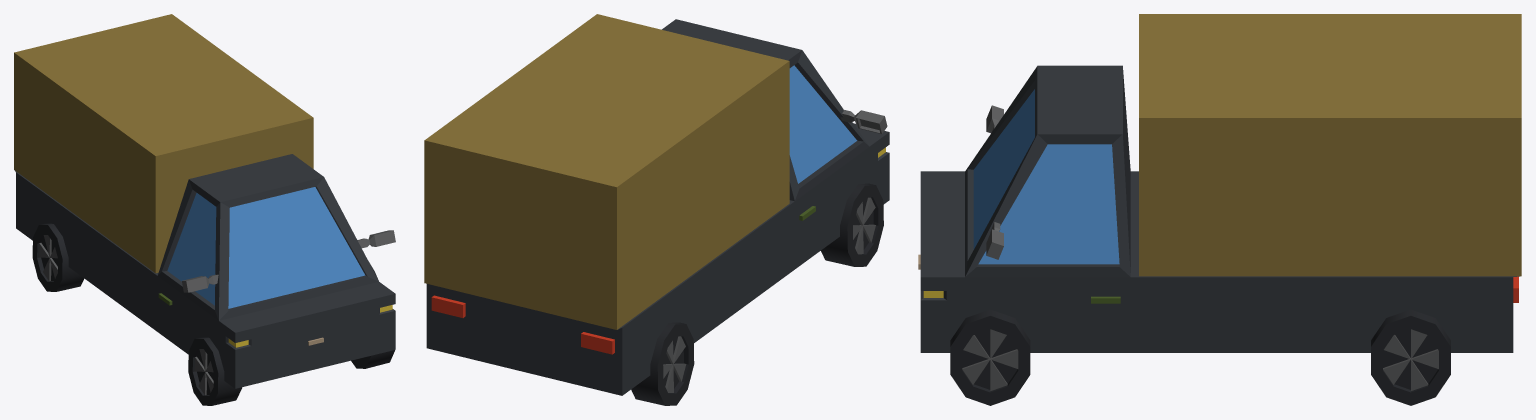
Rendered from Truck_1.fbx.
The picture shows the model from 3 angles, left to right: view 1: azimuth 30°, elevation 25°; view 2: azimuth 150°, elevation 25°; view 3: azimuth 270°, elevation 25°; orthographic projection. The views are drawn at different scales.
Visible parts, largest first — view 1: Truck_1; view 2: Truck_1; view 3: Truck_1.
Part boxes in pixels (x1,y1,x2,y2): Truck_1: (14, 14, 395, 405); Truck_1: (424, 14, 889, 405); Truck_1: (918, 14, 1521, 405).
Bounding box in the file's own units: 311 × 297 × 579.
